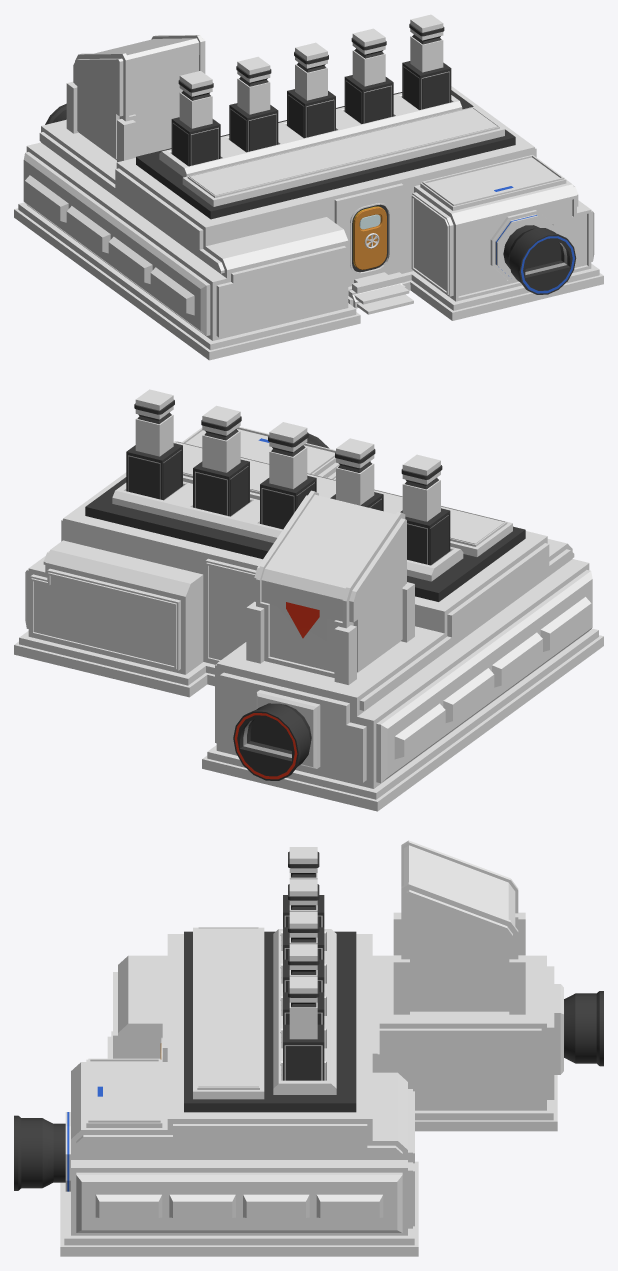
Rendered from Manufacturer.fbx.
The picture shows the model from 3 angles, top to bottom: view 1: azimuth 30°, elevation 25°; view 2: azimuth 150°, elevation 25°; view 3: azimuth 270°, elevation 25°; orthographic projection. The views are drawn at different scales.
Visible parts, largest first — view 1: Manufacturer; view 2: Manufacturer; view 3: Manufacturer.
Part boxes in pixels (x1=…): Manufacturer: x1=14, y1=14, x2=603, y2=360; Manufacturer: x1=14, y1=389, x2=603, y2=811; Manufacturer: x1=14, y1=840, x2=603, y2=1256.
Size of the model in its own units: 174 by 87.44 by 200.
